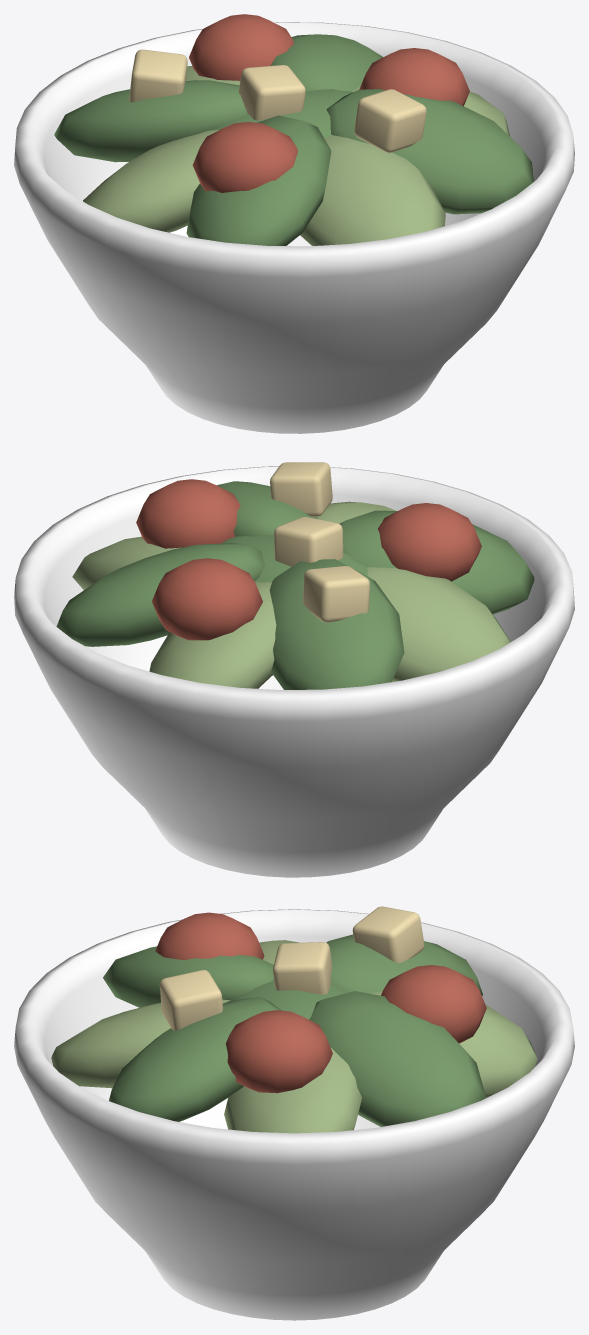
The model's file is option-salad.glb.
3 views of the same model, one above another, from view 1: azimuth 30°, elevation 25°; view 2: azimuth 150°, elevation 25°; view 3: azimuth 270°, elevation 25° (orthographic).
Visible parts, largest first — view 1: Model_Salad_Surface, Model_Salad_Leaf, Model_Salad_LeafLight, Model_Salad_Tomato, Model_Salad_Bread; view 2: Model_Salad_Surface, Model_Salad_Leaf, Model_Salad_LeafLight, Model_Salad_Tomato, Model_Salad_Bread; view 3: Model_Salad_Surface, Model_Salad_Leaf, Model_Salad_LeafLight, Model_Salad_Tomato, Model_Salad_Bread.
Boxes of the visible parts, box(x1,y1,x2,y2) form: Model_Salad_Surface: box(14, 22, 574, 433); Model_Salad_Leaf: box(54, 34, 533, 245); Model_Salad_LeafLight: box(83, 66, 509, 245); Model_Salad_Tomato: box(189, 14, 469, 192); Model_Salad_Bread: box(129, 49, 426, 152); Model_Salad_Surface: box(14, 466, 574, 877); Model_Salad_Leaf: box(56, 481, 534, 689); Model_Salad_LeafLight: box(72, 501, 510, 688); Model_Salad_Tomato: box(136, 479, 481, 640); Model_Salad_Bread: box(270, 462, 369, 622); Model_Salad_Surface: box(14, 909, 574, 1320); Model_Salad_Leaf: box(103, 934, 485, 1126); Model_Salad_LeafLight: box(51, 940, 537, 1133); Model_Salad_Tomato: box(155, 912, 486, 1093); Model_Salad_Bread: box(159, 906, 424, 1030).
Size of the model in its own units: 0.656 by 0.4088 by 0.656.
